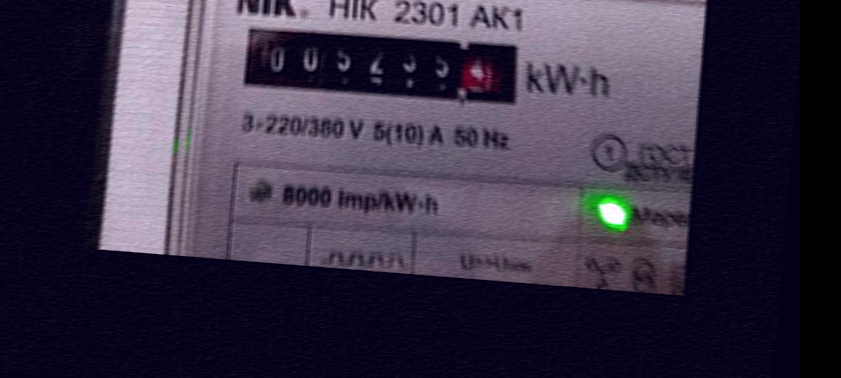0: (299, 42, 322, 77), (267, 44, 287, 76)
2: (365, 45, 389, 80)
3: (397, 45, 424, 80)
4: (466, 51, 491, 88)
5: (431, 47, 456, 84), (333, 43, 355, 77)
screen: (226, 12, 534, 122)
